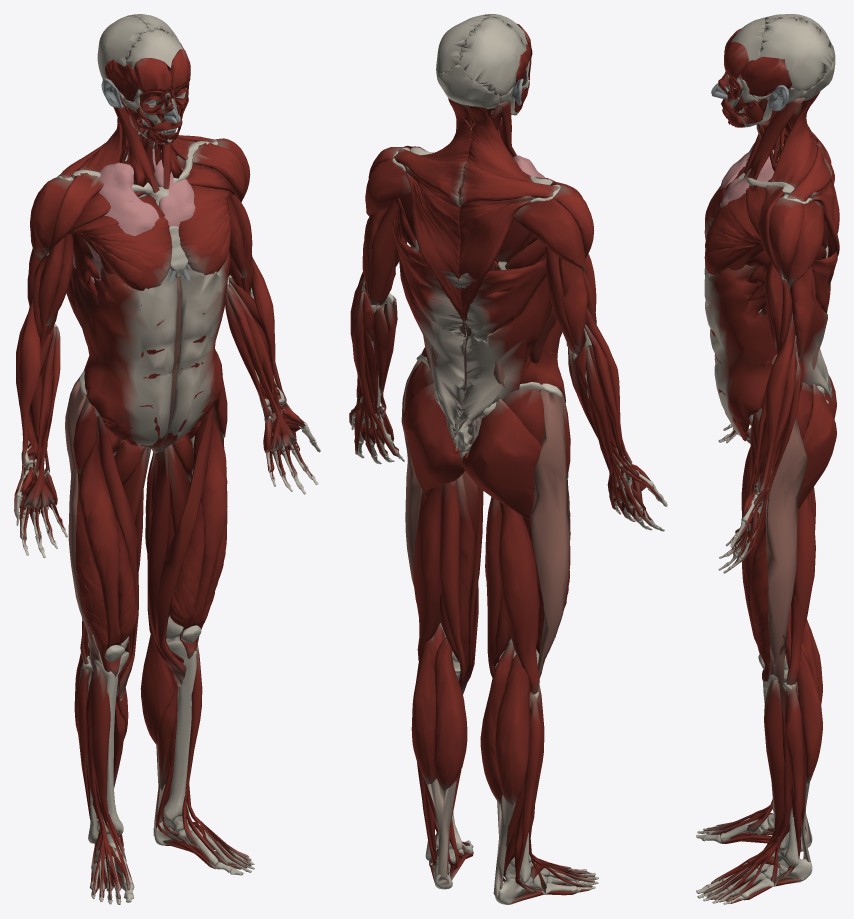
File: body.glb
3 renders of one model, left to right at view 1: azimuth 30°, elevation 25°; view 2: azimuth 150°, elevation 25°; view 3: azimuth 270°, elevation 25°, orthographic. The views are drawn at different scales.
Parts seen in each view (by area): view 1: otherMuscle, quadriceps, pectoralis, deltoid, lungs, tibia, skull, biceps, gastrocnemius, trapezius, phalangesHand, metatarsal (+5 smaller); view 2: otherMuscle, trapezius, gastrocnemius, gluteus, skull, deltoid, tarsal, phalangesHand, quadriceps; view 3: otherMuscle, skull, deltoid, trapezius, pectoralis, quadriceps, gastrocnemius, gluteus, biceps, lungs, tarsal, metatarsal (+6 smaller).
Boxes of the visible parts, box(x1,y1,x2,y2) form: otherMuscle: box(14, 43, 314, 900); quadriceps: box(75, 413, 227, 676); pectoralis: box(67, 163, 235, 306); deltoid: box(30, 138, 250, 259); lungs: box(73, 151, 195, 283); tibia: box(89, 635, 197, 834); skull: box(97, 14, 185, 134); biceps: box(38, 194, 252, 347); gastrocnemius: box(74, 631, 173, 744); trapezius: box(57, 118, 216, 178); phalangesHand: box(15, 426, 320, 557); metatarsal: box(90, 832, 233, 888); otherMuscle: box(349, 24, 662, 904); trapezius: box(393, 98, 559, 325); gastrocnemius: box(411, 635, 530, 805); gluteus: box(403, 383, 541, 520); skull: box(436, 14, 529, 108); deltoid: box(365, 145, 594, 271); tarsal: box(433, 848, 549, 904); phalangesHand: box(351, 416, 667, 531); quadriceps: box(414, 490, 570, 662); otherMuscle: box(703, 28, 837, 903); skull: box(711, 14, 835, 113); deltoid: box(758, 185, 824, 288); trapezius: box(770, 92, 839, 257); pectoralis: box(704, 166, 765, 274); quadriceps: box(741, 447, 770, 681); gastrocnemius: box(796, 619, 822, 783); gluteus: box(798, 375, 836, 508); biceps: box(765, 260, 782, 354); lungs: box(720, 143, 778, 207); tarsal: box(748, 814, 812, 881); metatarsal: box(720, 823, 776, 897).
Size of the model in its own units: 0.6478 by 1.71 by 0.2618.
